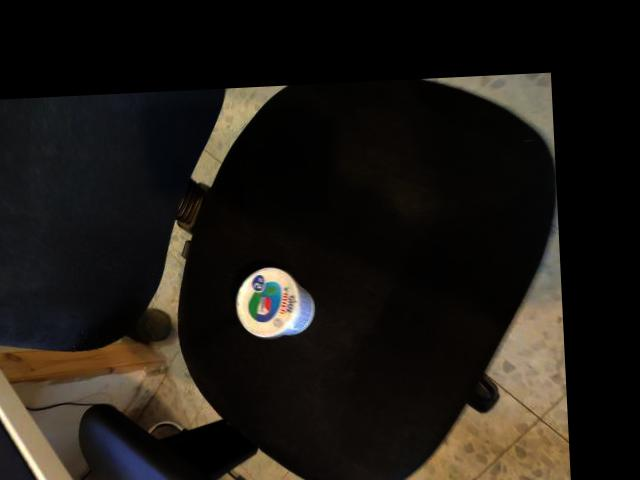cotage: (228, 251, 333, 342)
